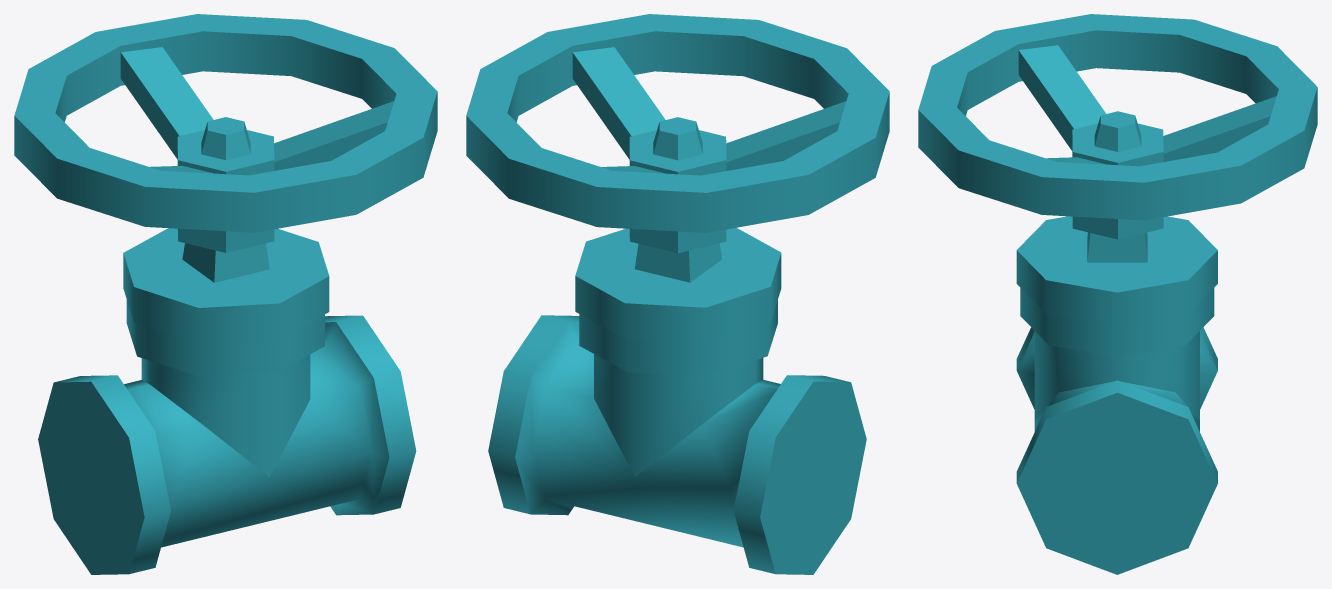
Rendered from Valve_A_Snaps004.FBX.
3 views of the same model, side by side, from view 1: azimuth 30°, elevation 25°; view 2: azimuth 150°, elevation 25°; view 3: azimuth 270°, elevation 25° (orthographic). The views are drawn at different scales.
Visible parts, largest first — view 1: Geometry_Valve_A_LOD00; view 2: Geometry_Valve_A_LOD00; view 3: Geometry_Valve_A_LOD00.
Boxes of the visible parts, box(x1,y1,x2,y2) form: Geometry_Valve_A_LOD00: box(14, 14, 437, 574); Geometry_Valve_A_LOD00: box(466, 14, 889, 574); Geometry_Valve_A_LOD00: box(918, 14, 1317, 574).
Size of what is drawn, in the model's own units: 7.78 by 8.89 by 7.78.
